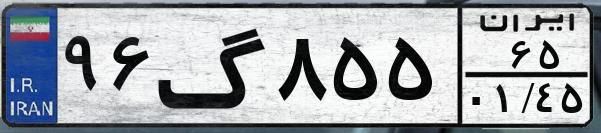0: (470, 70, 495, 125)
1: (495, 70, 520, 125)
4: (535, 70, 560, 125)
5: (385, 28, 445, 110), (330, 28, 385, 110), (560, 70, 590, 125), (537, 27, 568, 80)
6: (110, 28, 156, 98), (508, 27, 537, 80)
8: (270, 28, 330, 110)
9: (57, 26, 110, 100)
گ: (156, 12, 270, 120)
